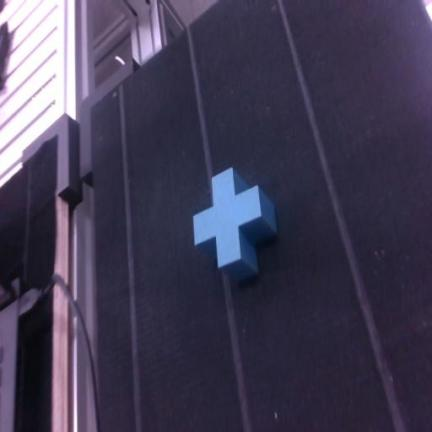cross: (194, 168, 276, 280)
